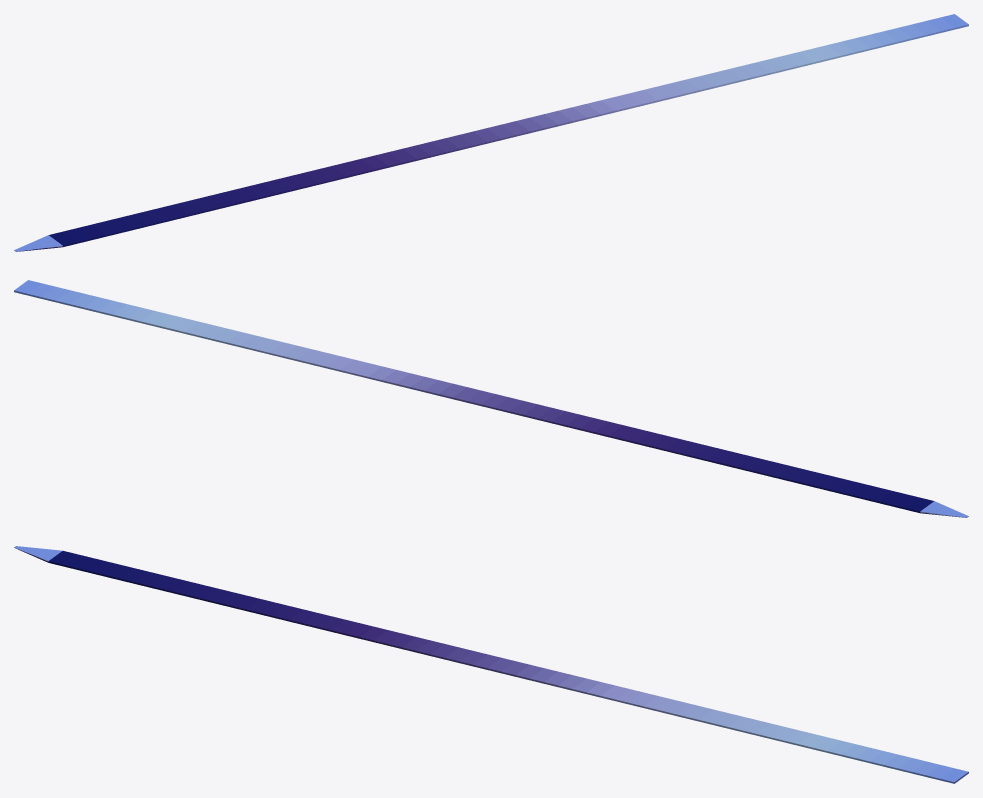
File: scono_beamsaber_r 1.fbx
The picture shows the model from 3 angles, top to bottom: view 1: azimuth 30°, elevation 25°; view 2: azimuth 150°, elevation 25°; view 3: azimuth 330°, elevation 25°; orthographic projection.
Parts seen in each view (by area): view 1: scono_beamsaber_R; view 2: scono_beamsaber_R; view 3: scono_beamsaber_R.
Boxes of the visible parts, <box> form: scono_beamsaber_R: <box>14,14,968,251</box>; scono_beamsaber_R: <box>14,280,968,517</box>; scono_beamsaber_R: <box>14,546,968,783</box>.
Bounding box in the file's own units: 429 × 0.7425 × 11.25.
